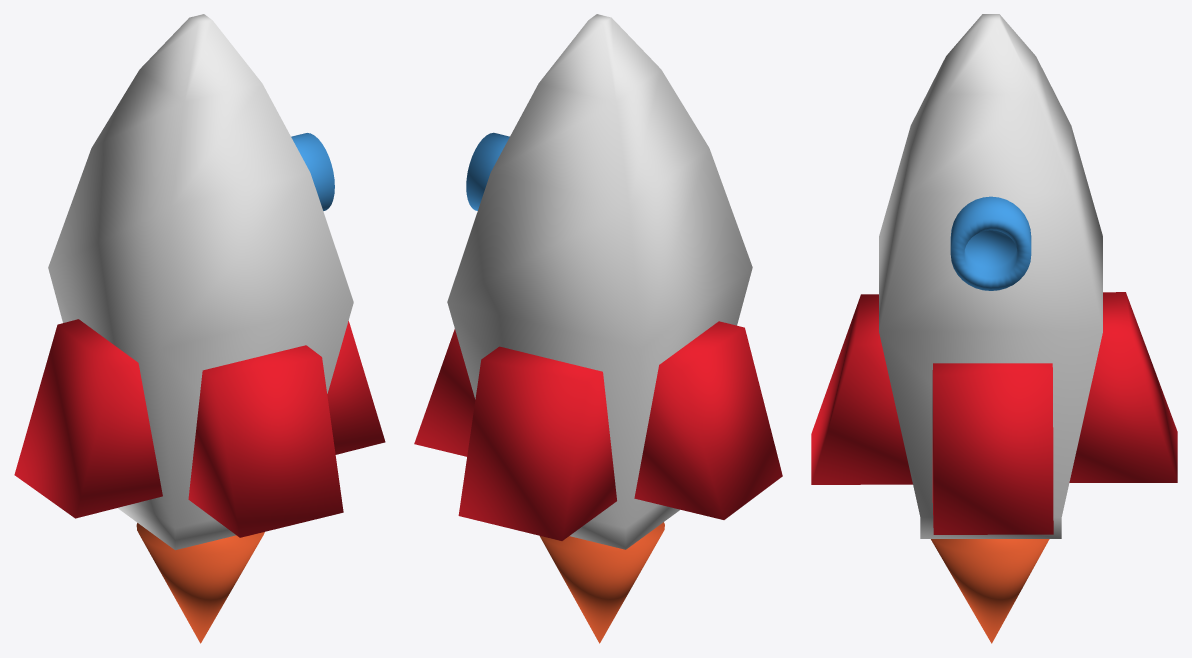
File: Rocket.fbx
The picture shows the model from 3 angles, left to right: view 1: azimuth 30°, elevation 25°; view 2: azimuth 150°, elevation 25°; view 3: azimuth 270°, elevation 25°; orthographic projection.
Visible parts, largest first — view 1: Cube, Cube.002, Cube.003, Cone, Cube.004, Cylinder; view 2: Cube, Cube.001, Cube.003, Cone, Cube.004, Cylinder; view 3: Cube, Cube.004, Cube.001, Cube.002, Cylinder, Cone.
Part boxes in pixels (x1=…): Cube: x1=48, y1=14, x2=353, y2=550; Cube.002: x1=188, y1=345, x2=343, y2=537; Cube.003: x1=14, y1=319, x2=162, y2=518; Cone: x1=136, y1=523, x2=264, y2=643; Cube.004: x1=327, y1=321, x2=385, y2=454; Cylinder: x1=291, y1=133, x2=334, y2=210; Cube: x1=447, y1=14, x2=752, y2=549; Cube.001: x1=458, y1=346, x2=616, y2=540; Cube.003: x1=634, y1=321, x2=782, y2=519; Cone: x1=540, y1=522, x2=664, y2=643; Cube.004: x1=414, y1=329, x2=475, y2=456; Cylinder: x1=466, y1=132, x2=509, y2=210; Cube: x1=879, y1=14, x2=1102, y2=538; Cube.004: x1=932, y1=363, x2=1053, y2=534; Cube.001: x1=1069, y1=292, x2=1177, y2=482; Cube.002: x1=811, y1=294, x2=912, y2=484; Cylinder: x1=950, y1=196, x2=1031, y2=290; Cone: x1=931, y1=539, x2=1049, y2=643.
Size of the model in its own units: 321 by 617 by 327.
